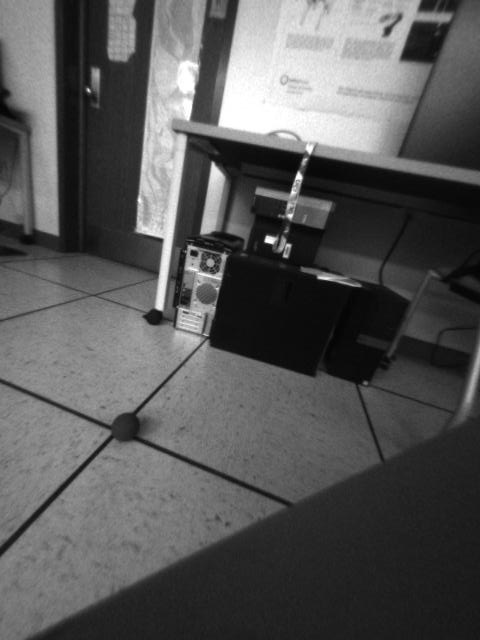dogtoy: (104, 408, 150, 448)
